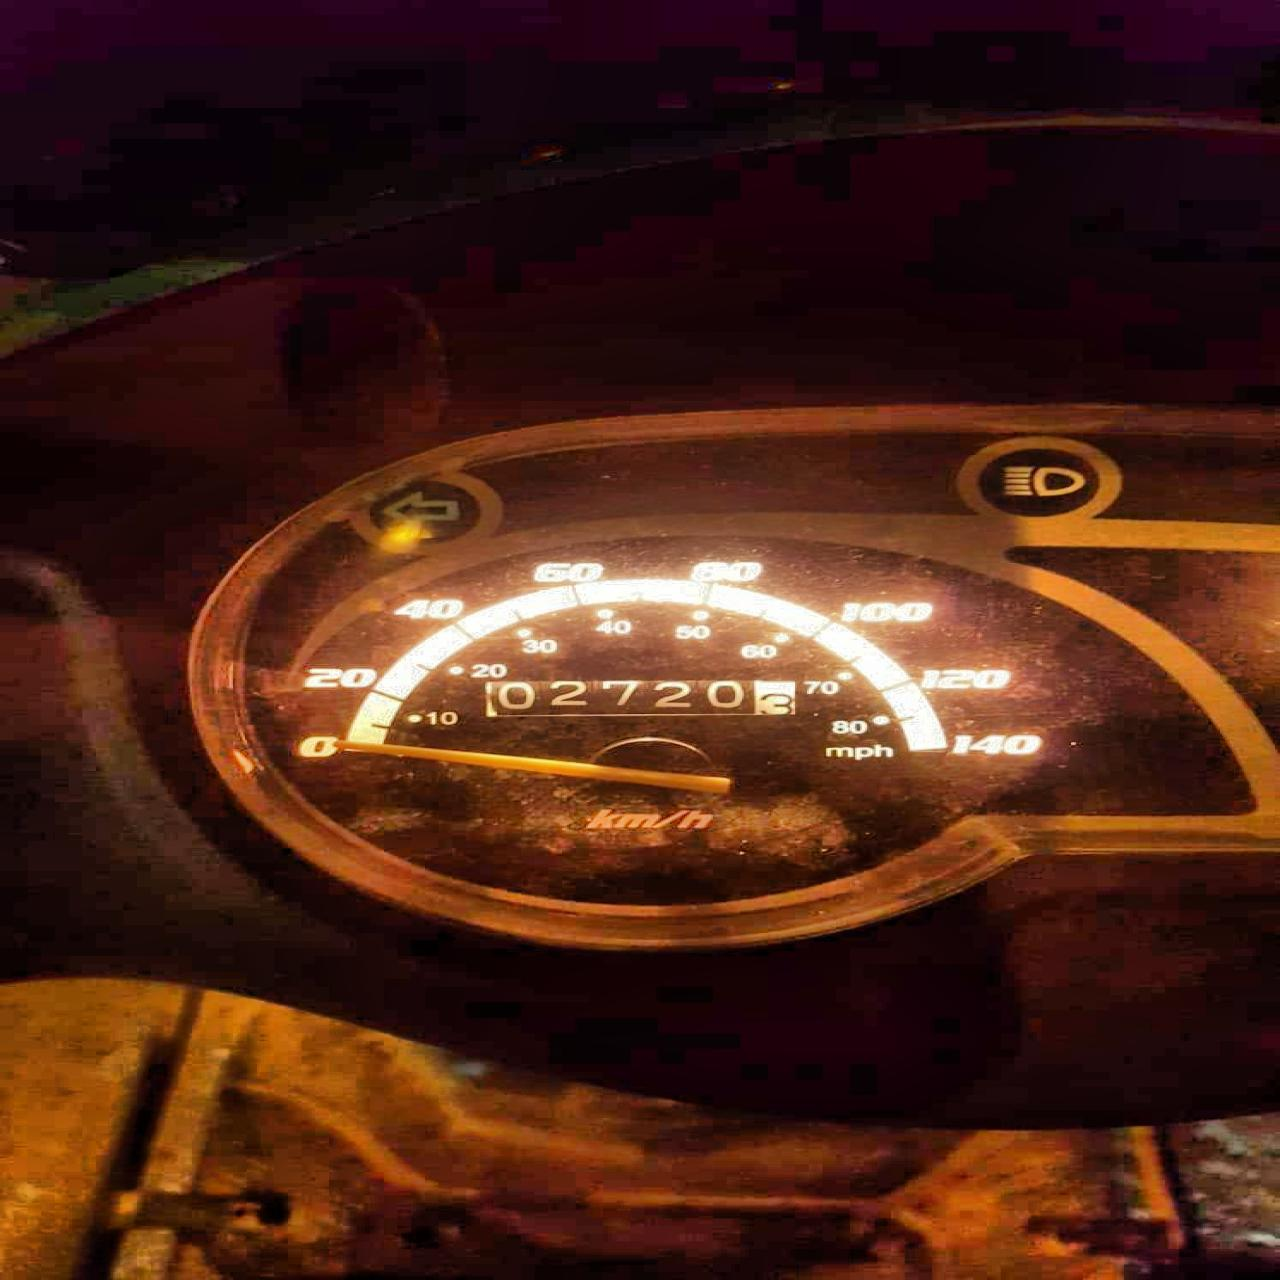0: (702, 680, 745, 710), (493, 680, 537, 709)
2: (651, 680, 692, 708), (546, 680, 587, 707)
3: (756, 692, 794, 715)
7: (601, 680, 641, 706)
odometer: (479, 676, 801, 720)
